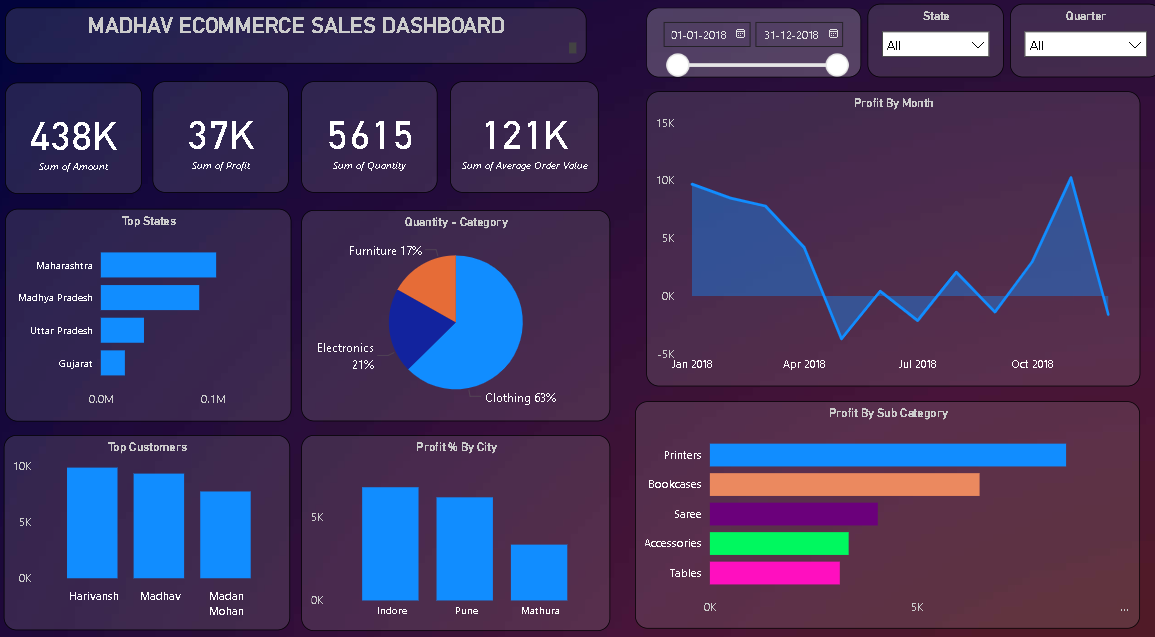

This screenshot's page, from the dashboard's own definition file:
{"tool":"powerbi","page":{"name":"Report Veiw","canvas":[1280,720],"ordinal":0},"visuals":[{"type":"areaChart","title":"Profit By Month","fields":{"Category":["Orders.Order Date.Variation.Date Hierarchy.Year","Orders.Order Date.Variation.Date Hierarchy.Month"],"Y":["Details.Profit"]},"box":[714.9,105.7,542,323.8],"z":0},{"type":"clusteredBarChart","title":"Profit By Sub Category","fields":{"Category":["Details.Sub-Category"],"Y":["Details.Profit"]},"box":[702.6,446,554.4,249.7],"z":1000},{"type":"pieChart","title":"Quantity - Category","fields":{"Category":["Details.Category"],"Y":["Details.Quantity"]},"box":[336.2,236,338.9,231.9],"z":2000},{"type":"columnChart","title":"Profit  % By City","fields":{"Category":["Orders.City"],"Y":["Details.Profit"]},"box":[336.2,483,338.9,215.4],"z":3000},{"type":"card","fields":{"Values":["Details.Amount"]},"box":[11,96.1,150,122.1],"z":4000},{"type":"card","fields":{"Values":["Details.Average Order Value"]},"box":[499.5,94.7,163.3,122.1],"z":5000},{"type":"card","fields":{"Values":["Details.Quantity"]},"box":[336.2,94.7,149.6,122.1],"z":6000},{"type":"card","fields":{"Values":["Details.Profit"]},"box":[172.9,94.7,149.6,122.1],"z":7000},{"type":"clusteredColumnChart","title":"Top Customers","fields":{"Category":["Orders.CustomerName"],"Y":["Details.Amount"]},"box":[9.6,483,314.2,214.1],"z":8000},{"type":"clusteredBarChart","title":"Top States","fields":{"Category":["Orders.State"],"Y":["Details.Amount"]},"box":[11,234.6,314.2,233.3],"z":9000},{"type":"textbox","title":"MADHAV ECOMMERCE SALES DASHBOARD","box":[11,13.7,638.1,61.7],"z":10000},{"type":"slicer","title":"State","fields":{"Values":["Orders.State"]},"box":[957.8,9.6,149.6,81],"z":12000},{"type":"slicer","fields":{"Values":["Orders.Order Date"]},"box":[714.9,13.7,236,76.8],"z":12001},{"type":"slicer","title":"Quarter","fields":{"Values":["Orders.Order Date.Variation.Date Hierarchy.Quarter"]},"box":[1114.2,9.6,166,81],"z":12002}]}

Visuals, with their boxes in screenshot pixels (x1, y1, x2, y2), scaled from the page's 1280x720 canvas onto the 1155x637 screenshot:
"Profit By Month" areaChart: <box>645,94,1134,380</box>
"Profit By Sub Category" clusteredBarChart: <box>634,395,1134,616</box>
"Quantity - Category" pieChart: <box>303,209,609,414</box>
"Profit  % By City" columnChart: <box>303,427,609,618</box>
card - Details.Amount: <box>10,85,145,193</box>
card - Details.Average Order Value: <box>451,84,598,192</box>
card - Details.Quantity: <box>303,84,438,192</box>
card - Details.Profit: <box>156,84,291,192</box>
"Top Customers" clusteredColumnChart: <box>9,427,292,617</box>
"Top States" clusteredBarChart: <box>10,208,293,414</box>
"MADHAV ECOMMERCE SALES DASHBOARD" textbox: <box>10,12,586,67</box>
"State" slicer: <box>864,8,999,80</box>
slicer - Orders.Order Date: <box>645,12,858,80</box>
"Quarter" slicer: <box>1005,8,1154,80</box>
